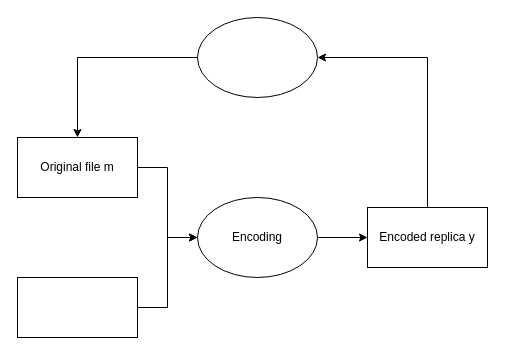
Image size: 505x355. Some labels were removed from this diagram. Each missing label, with the centre of its shape:
"Decoding" belongs at (x=257, y=57).
"Security parameter k" belongs at (x=77, y=307).
